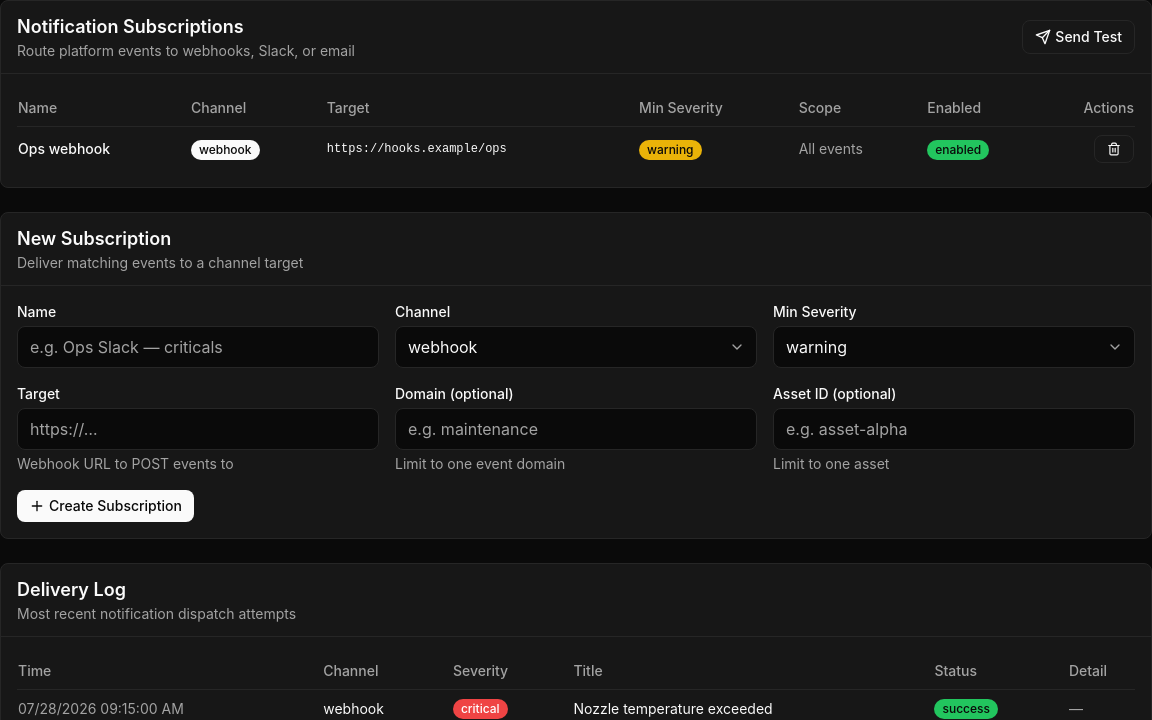
Notifications — creating a subscription › refuses a submission with no target
Expected: the text "Ops webhook" is shown, [17,126,190,171]
In the field labelled "Name": coordinates (198, 347) [17,326,379,368], type "Pager"
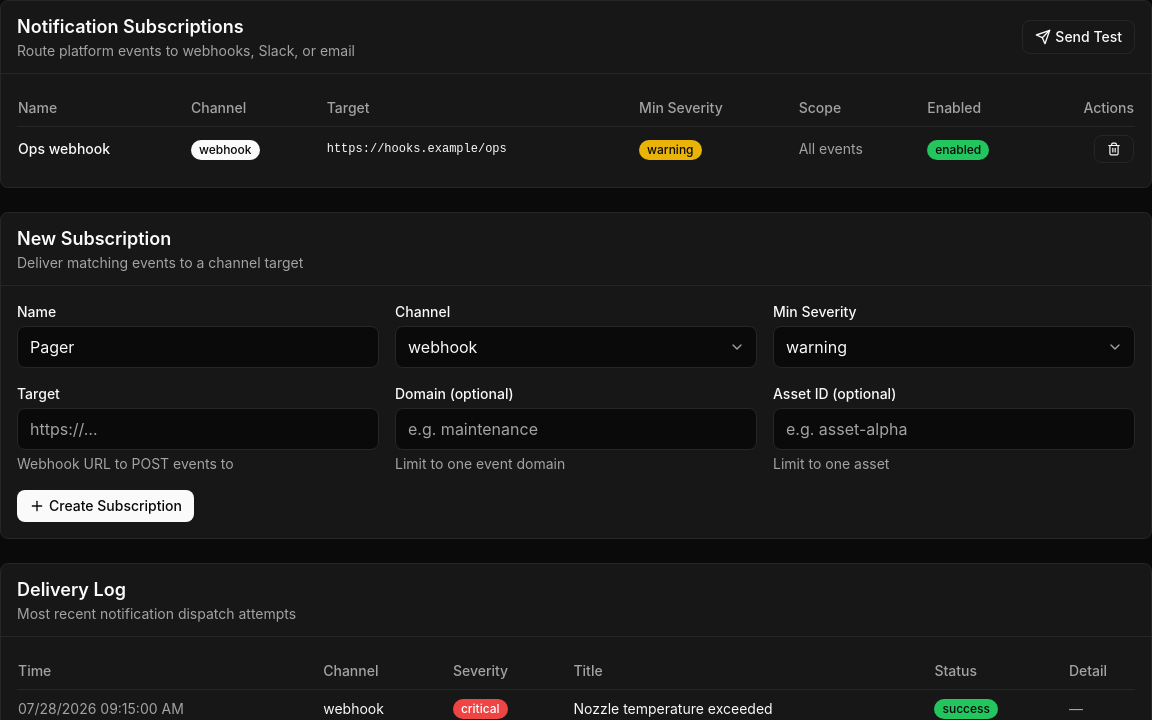
Click the button "Create Subscription": coordinates (105, 506) [17,490,194,522]
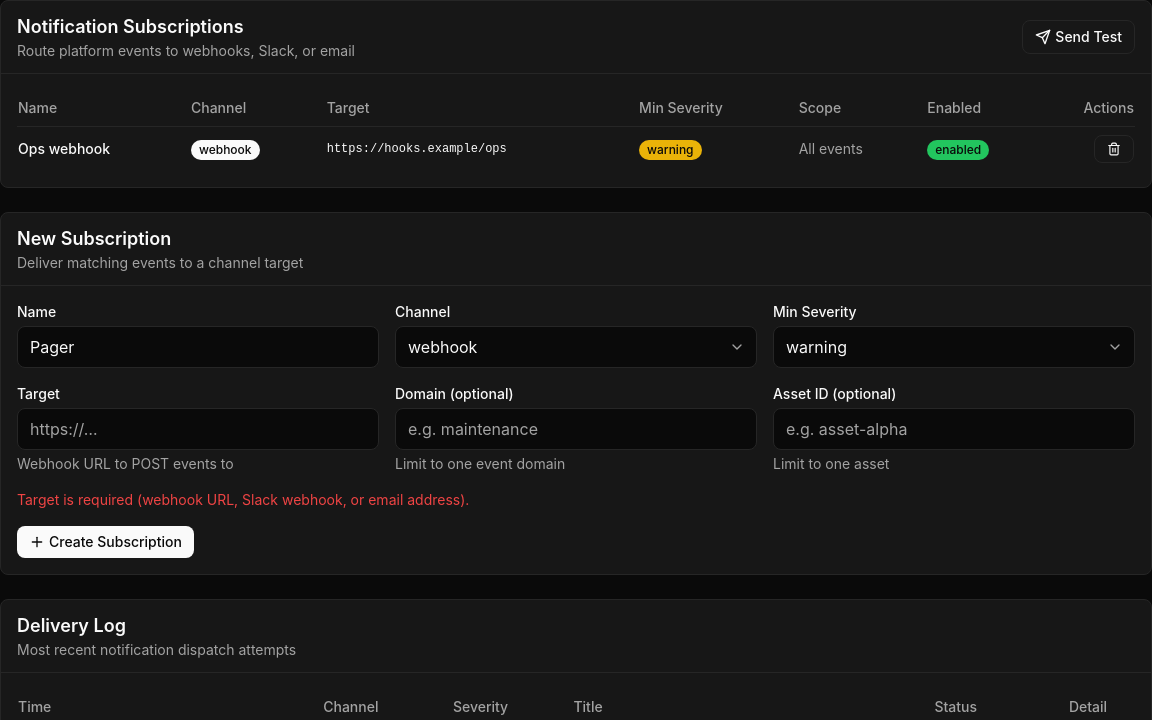
Expected: the text "Target is required" is shown, [17,491,469,508]
